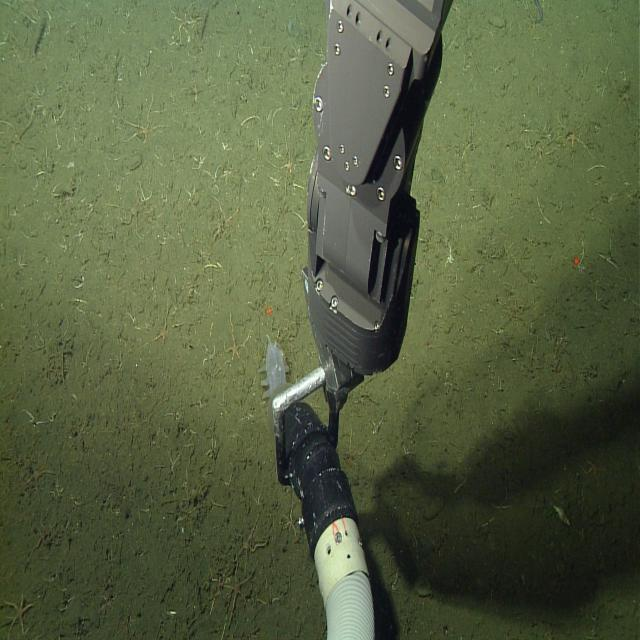Brittle Star: (215, 310, 255, 374), (218, 554, 258, 618), (1, 590, 36, 638)
Not Brittle Star: (256, 326, 293, 403)
